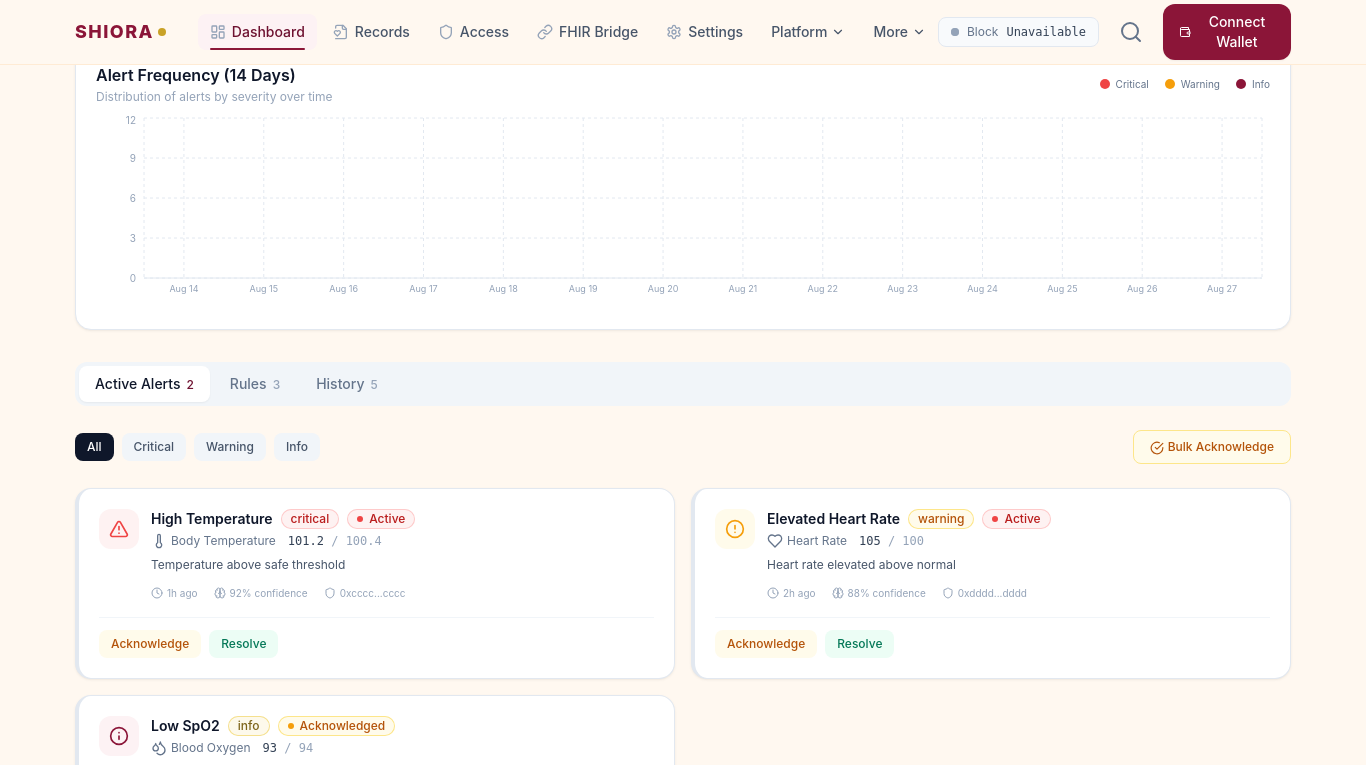
Test case: AlertsPage › switches to History tab and shows timeline
(page scrolled)
Click the tab "History5". click: point(347, 384)
box: [300, 366, 394, 402]
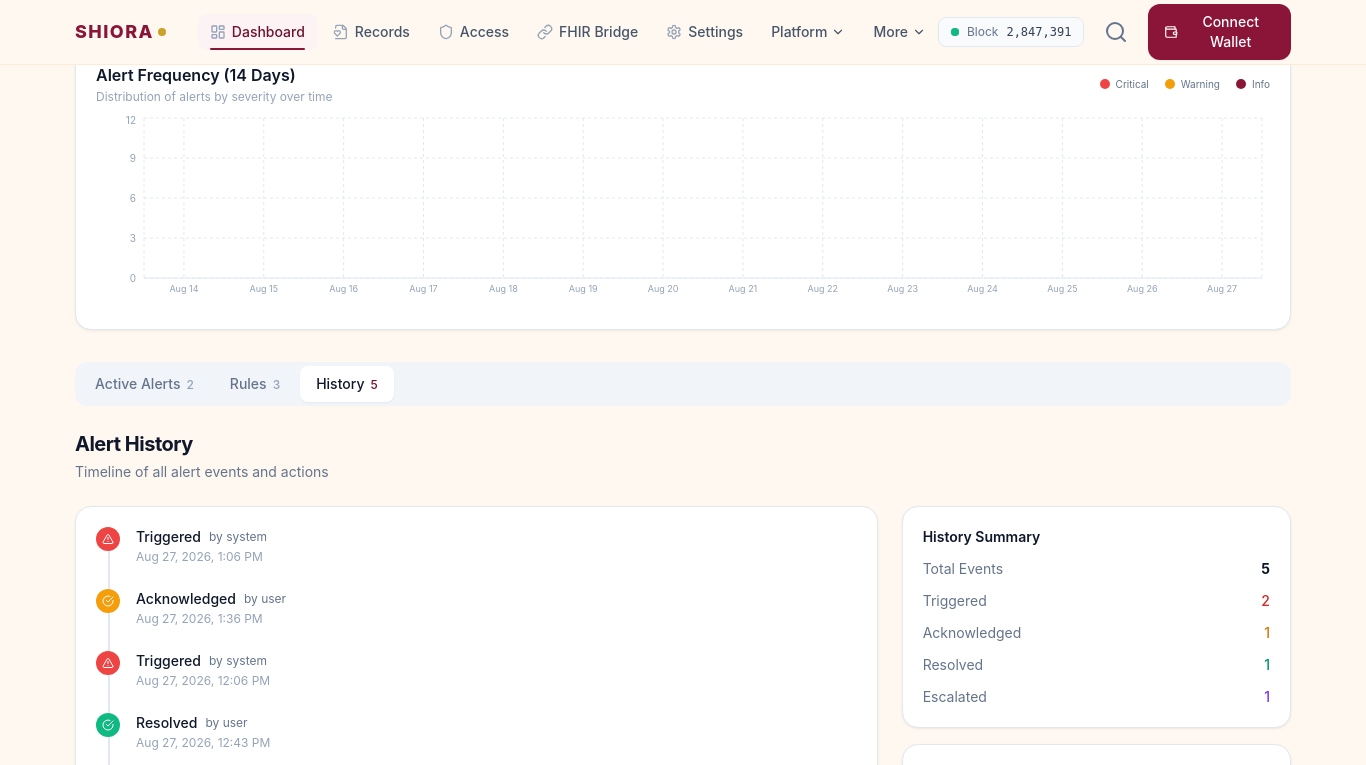
Check: the heading "Alert History" is shown, box [75, 432, 193, 456]
Check: the heading "History Summary" is shown, box [923, 528, 1040, 545]
